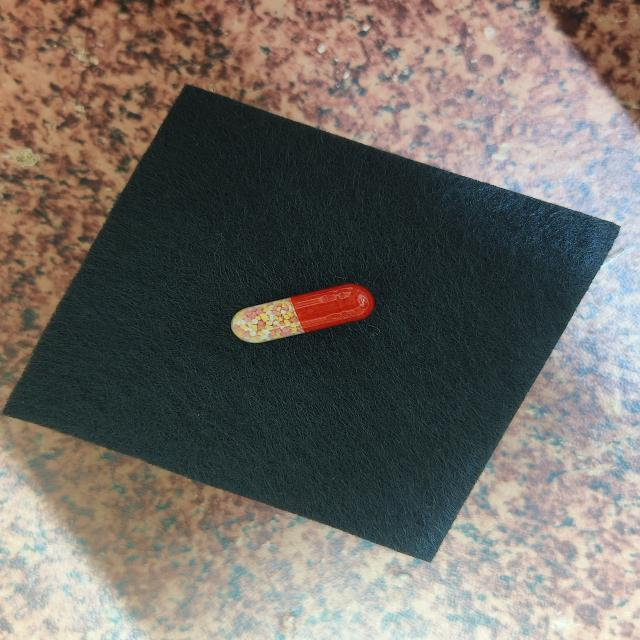Intact Capsule: (231, 283, 375, 343)
